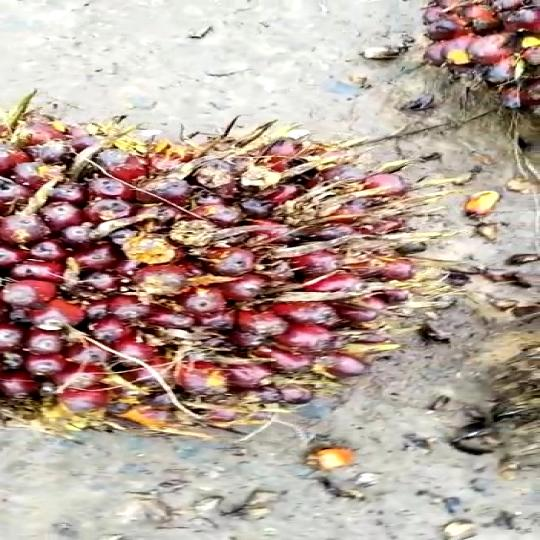kurang masak: (0, 89, 449, 440)
